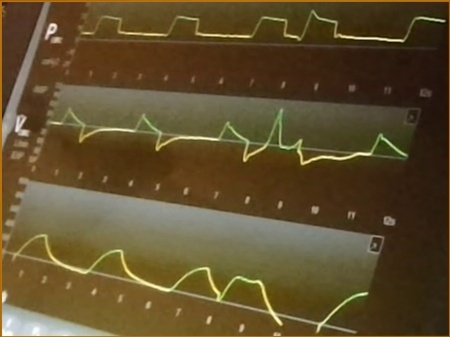Double_Triggering Flow: (52, 103, 406, 167)
Double_Triggering Volume: (10, 228, 367, 332)
